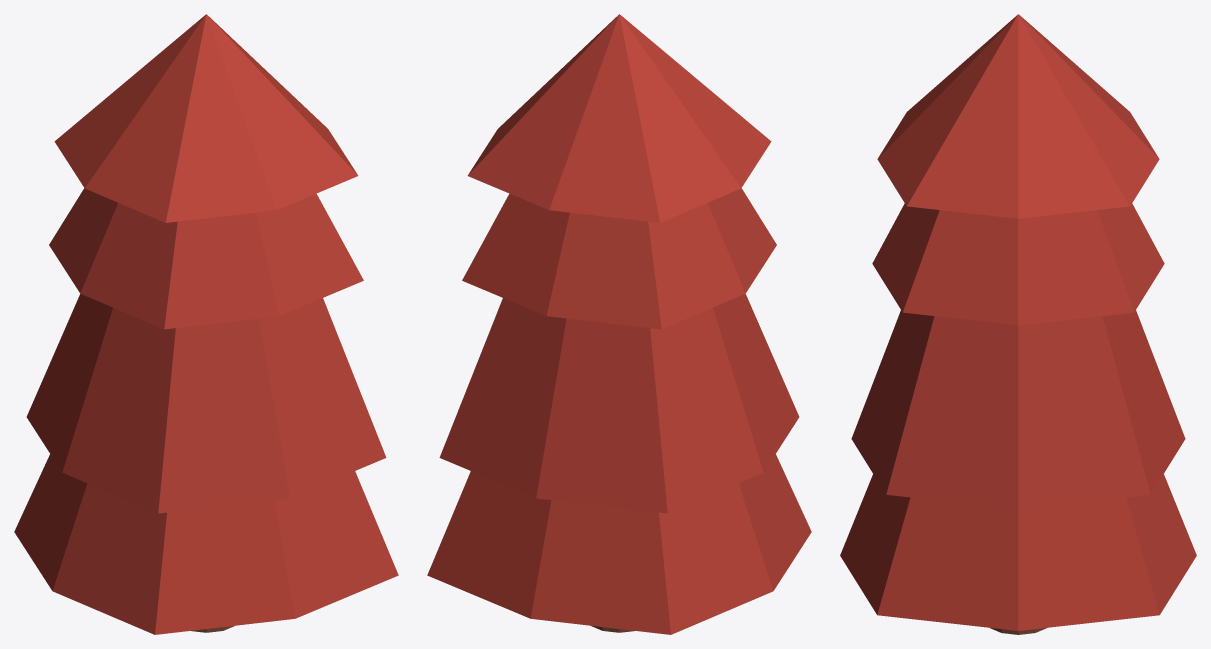
File: Tree_22_summer_red_vc.fbx
3 views of the same model, side by side, from view 1: azimuth 30°, elevation 25°; view 2: azimuth 150°, elevation 25°; view 3: azimuth 270°, elevation 25° (orthographic).
Visible parts, largest first — view 1: Tree_22_summer_red_vc; view 2: Tree_22_summer_red_vc; view 3: Tree_22_summer_red_vc.
Part boxes in pixels (x1,y1,x2,y2): Tree_22_summer_red_vc: [14, 14, 398, 634]; Tree_22_summer_red_vc: [427, 14, 811, 634]; Tree_22_summer_red_vc: [840, 14, 1196, 634].
Size of the model in its own units: 82.75 by 155 by 82.75.
